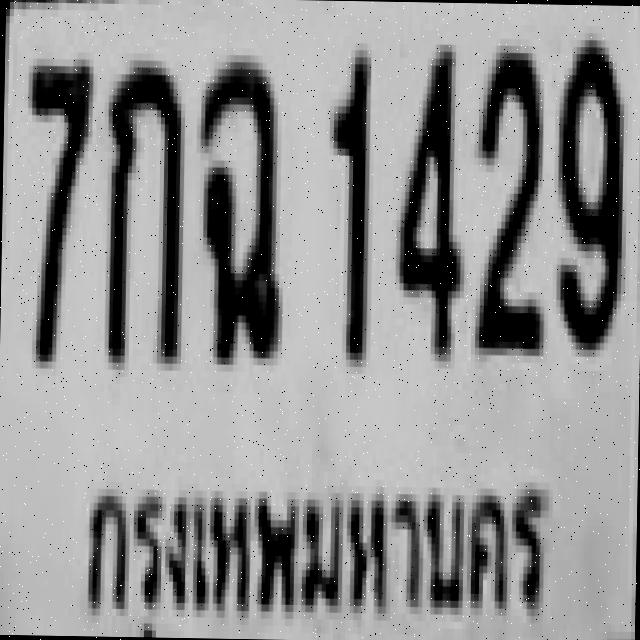0: (551, 32, 621, 343)
1: (323, 46, 369, 363)
10GorGai: (100, 52, 182, 364)
18ChorChing: (192, 54, 282, 358)
2: (468, 44, 542, 348)
4: (394, 36, 459, 354)
7: (22, 51, 92, 362)
9: (551, 32, 621, 343)
Bangkok: (67, 460, 557, 640)
